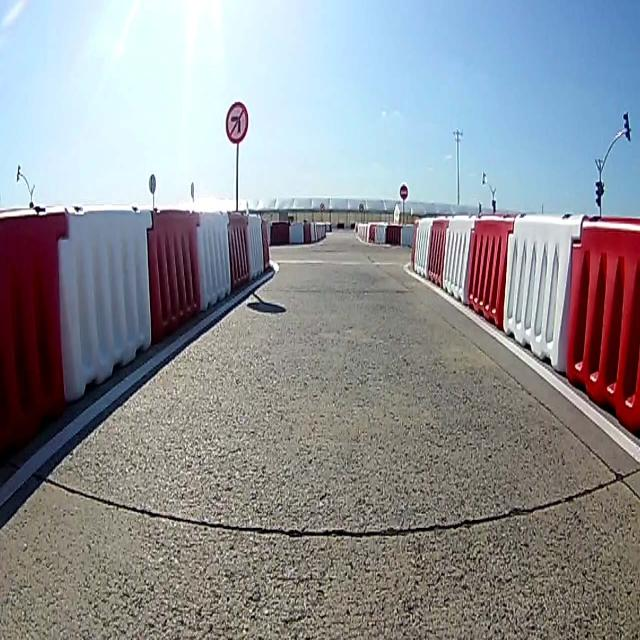girisyok: (400, 181, 410, 203)
soladonulmez: (225, 99, 247, 142)
